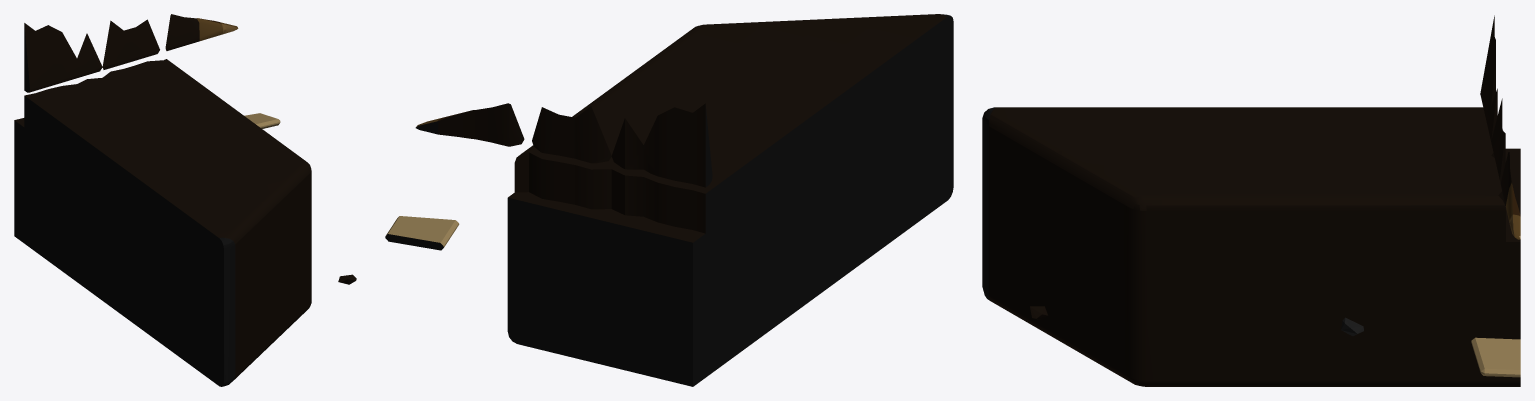
File: gold_pyramid_br_wreck.glb
3 views of the same model, side by side, from view 1: azimuth 30°, elevation 25°; view 2: azimuth 150°, elevation 25°; view 3: azimuth 270°, elevation 25° (orthographic). The views are drawn at different scales.
Parts seen in each view (by area): view 1: gold_pyramid_br_wreck; view 2: gold_pyramid_br_wreck; view 3: gold_pyramid_br_wreck.
Boxes of the visible parts, x1,y1,x2,y2 form: gold_pyramid_br_wreck: (14, 14, 356, 386); gold_pyramid_br_wreck: (385, 14, 953, 386); gold_pyramid_br_wreck: (982, 15, 1520, 386).
Bounding box in the file's own units: 13.19 × 11.04 × 19.
